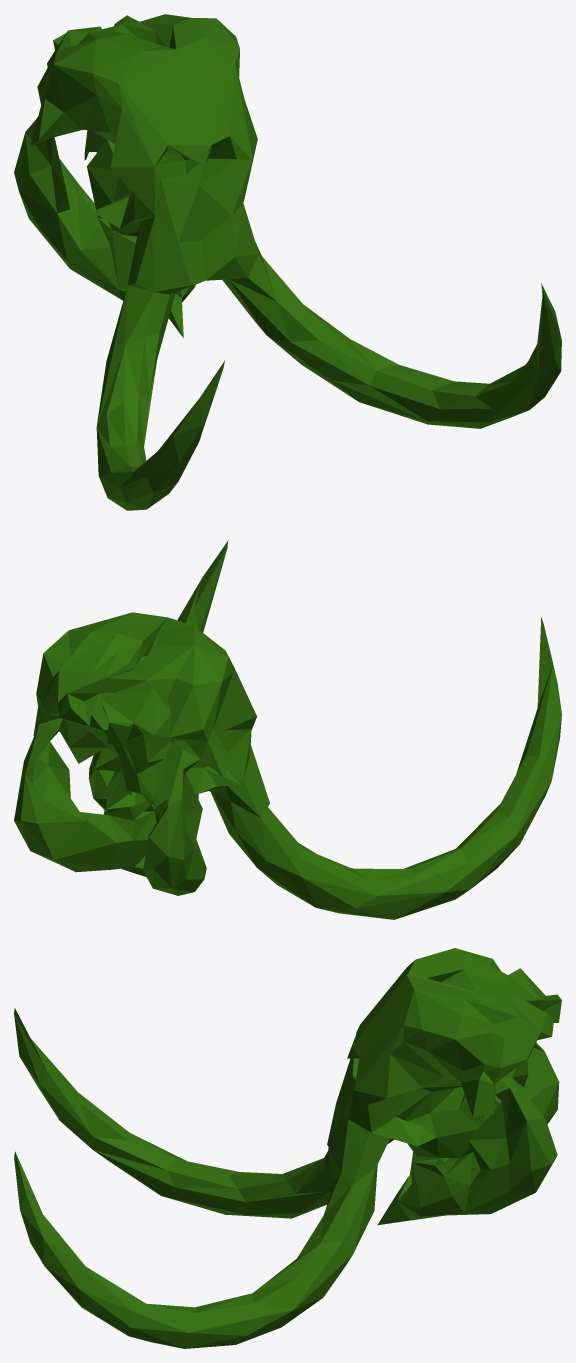
File: SkeletonMammothHead.fbx
The picture shows the model from 3 angles, top to bottom: view 1: azimuth 30°, elevation 25°; view 2: azimuth 150°, elevation 25°; view 3: azimuth 270°, elevation 25°; orthographic projection. The views are drawn at different scales.
Visible parts, largest first — view 1: SkeletonMammothHead; view 2: SkeletonMammothHead; view 3: SkeletonMammothHead.
Boxes of the visible parts, x1,y1,x2,y2 form: SkeletonMammothHead: [14, 14, 561, 510]; SkeletonMammothHead: [14, 540, 561, 919]; SkeletonMammothHead: [14, 948, 561, 1348].
Size of the model in its own units: 334 by 264 by 425.
